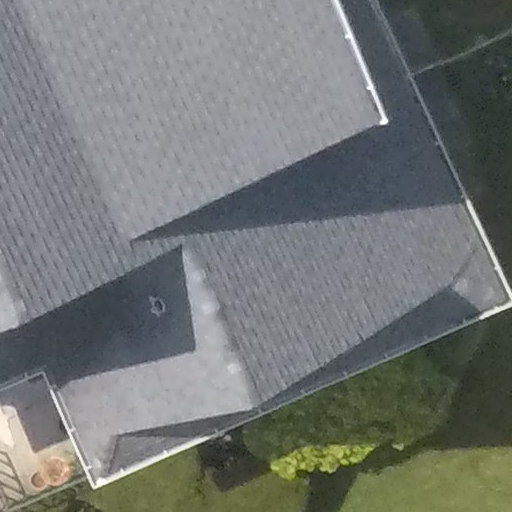container: (40, 445, 72, 488), (28, 466, 47, 494)
flower pot: (39, 448, 72, 494), (28, 470, 48, 498)
